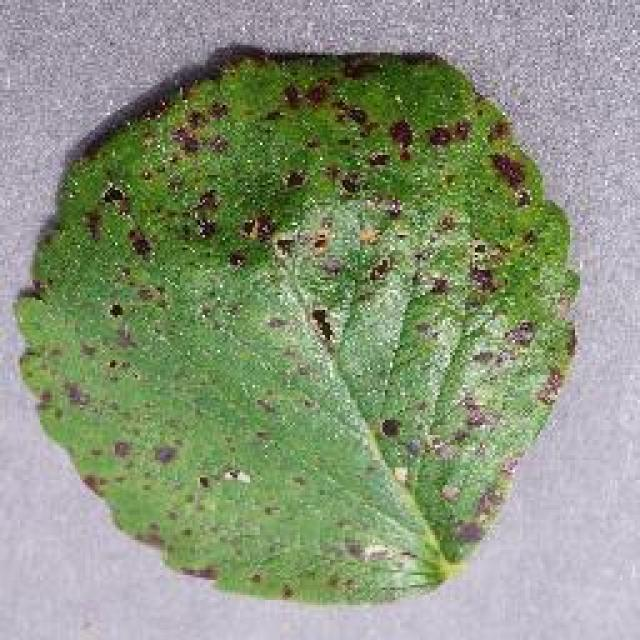Strawberry leaf scorch: (153, 100, 480, 538)
